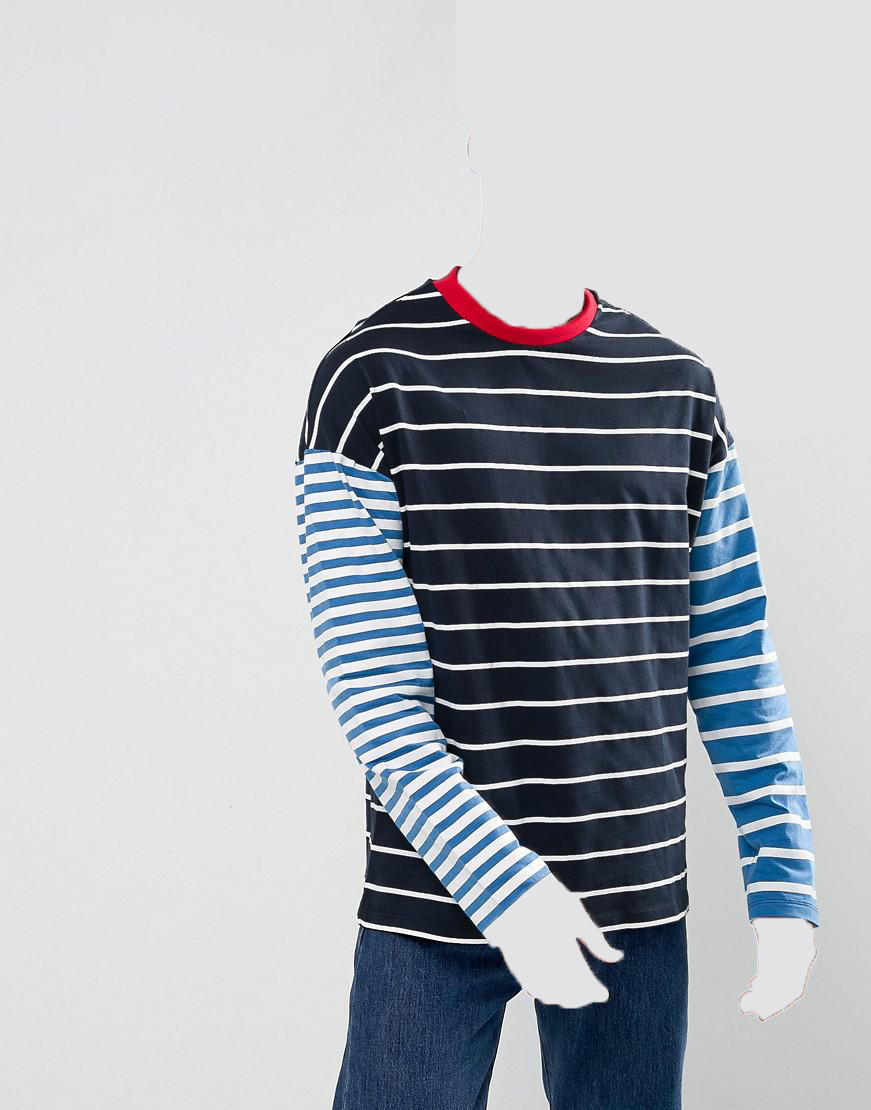teeshirt: (291, 262, 835, 962)
